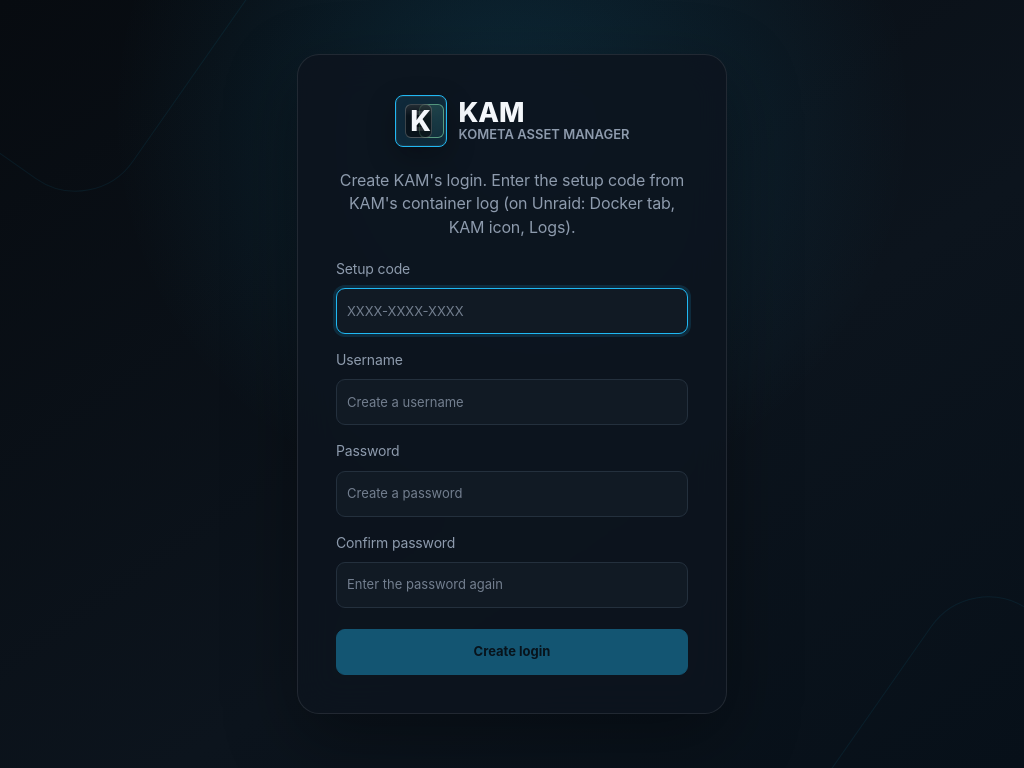
Scenario: LoginPage › checks the new password before sending the setup
The image size is (1024, 768).
Step 1. Type "ABCD-EFGH-JKMN" into the field labelled "Setup code" → point(512, 311), box [336, 288, 688, 334]
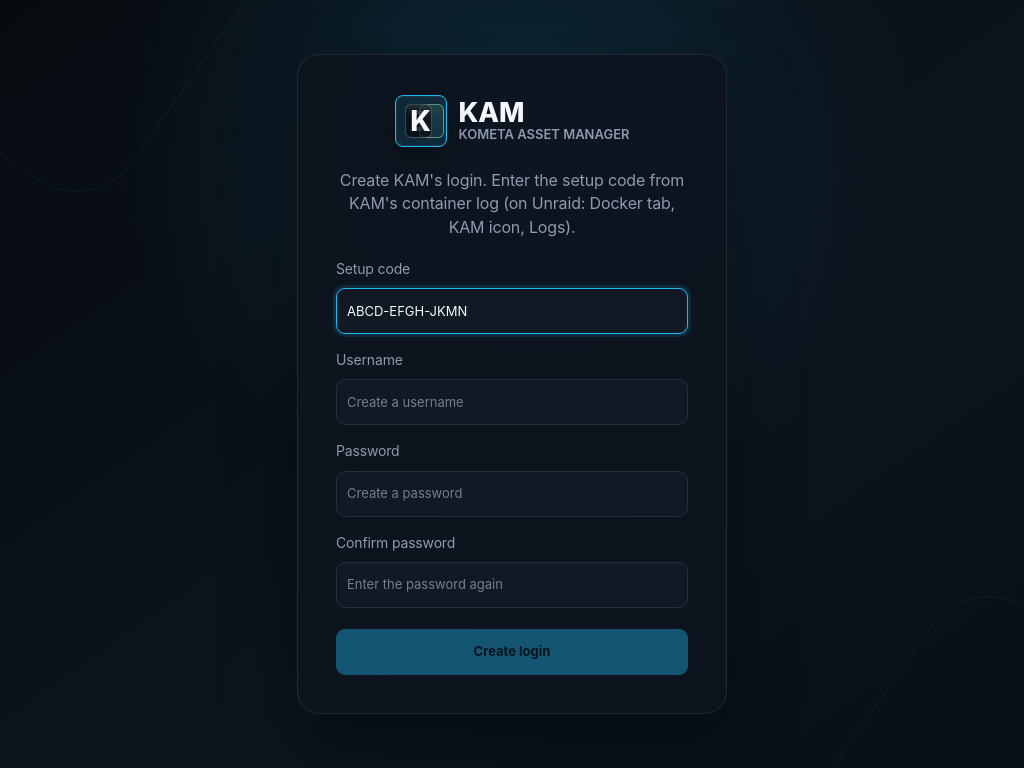
Step 2. Type "admin" into the field labelled "Username" → point(512, 402), box [336, 379, 688, 425]
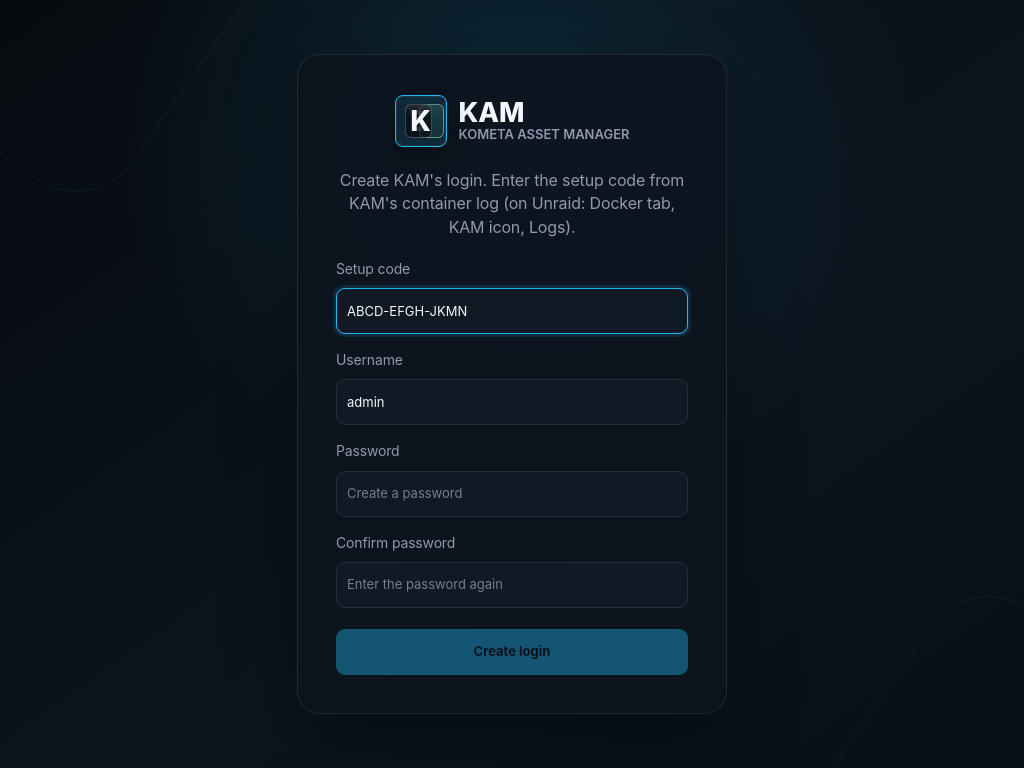
Step 3. Type "long-secret" into the password field labelled "Password" → point(512, 494), box [336, 471, 688, 517]
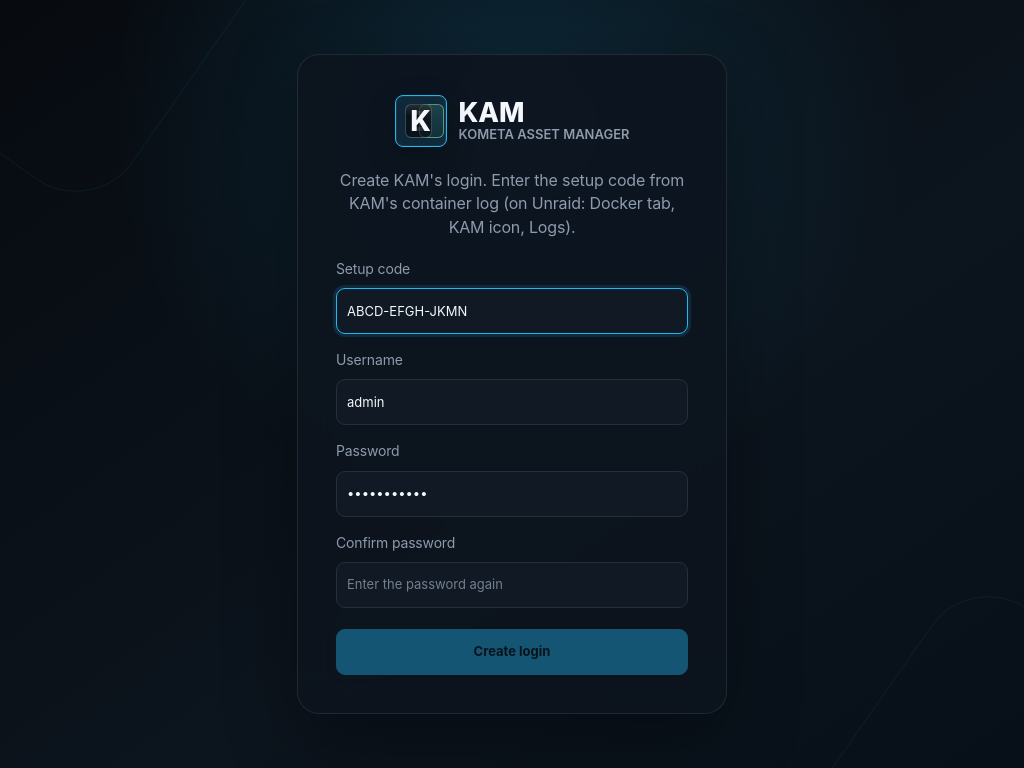
Step 4. Type "other-secret" into the password field labelled "Confirm password" → point(512, 585), box [336, 562, 688, 608]
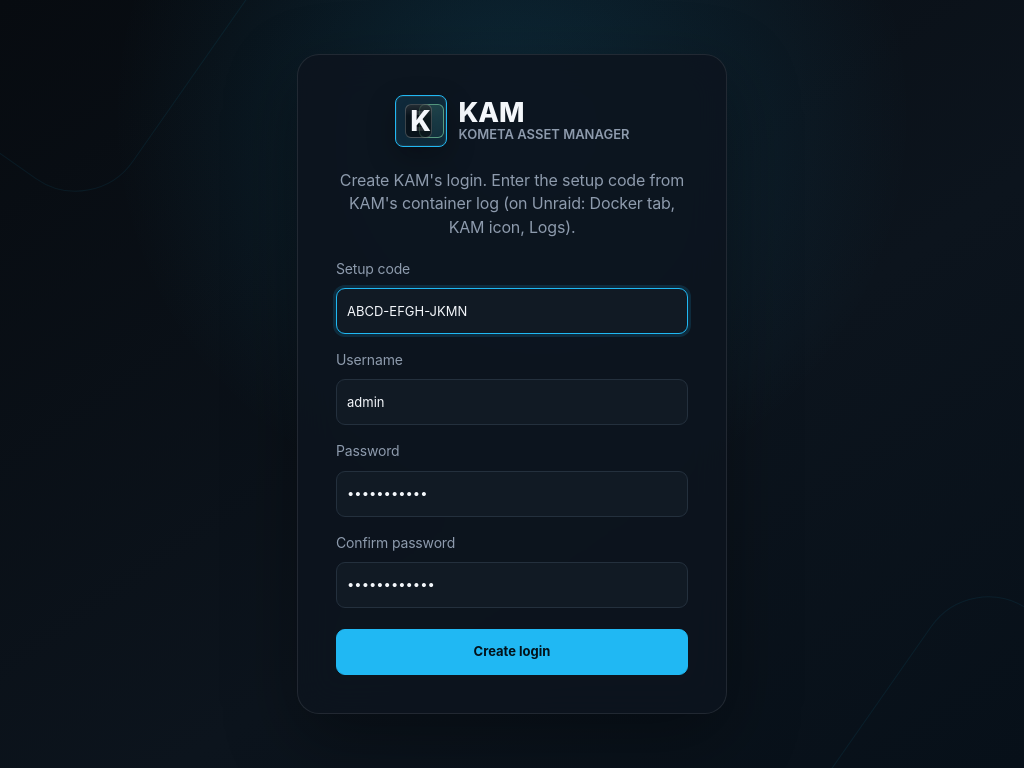
Step 5. Click the button "Create login" → point(512, 652), box [336, 629, 688, 675]
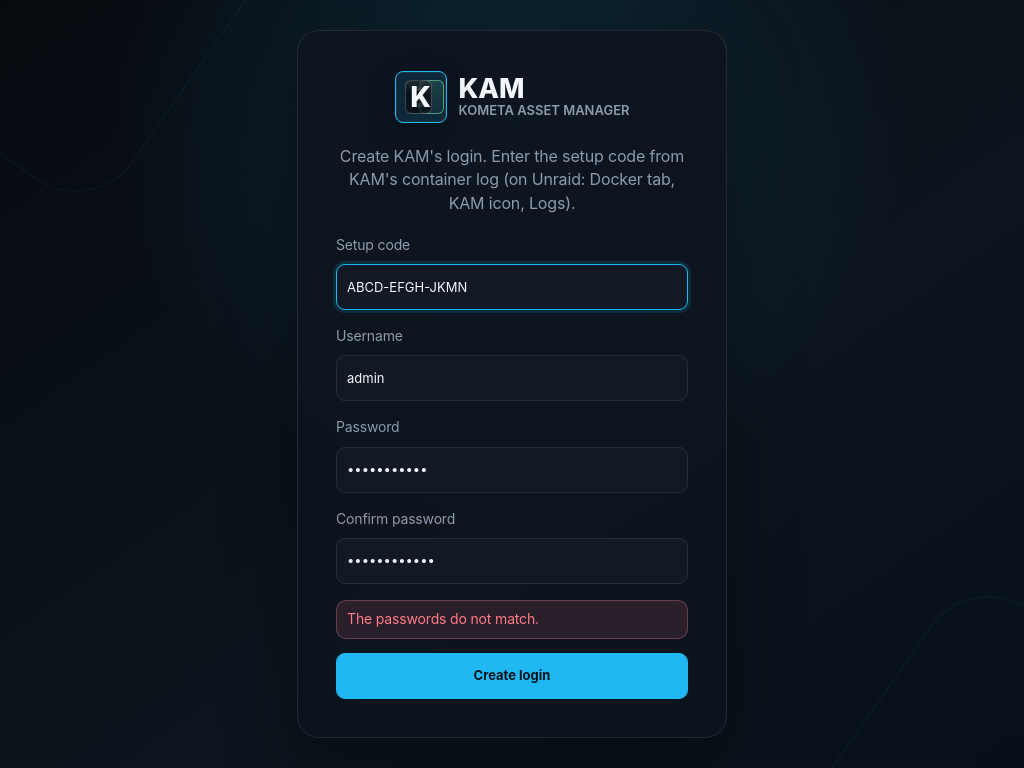
expect the text "The passwords do not match." is shown: met, box [336, 600, 688, 638]
